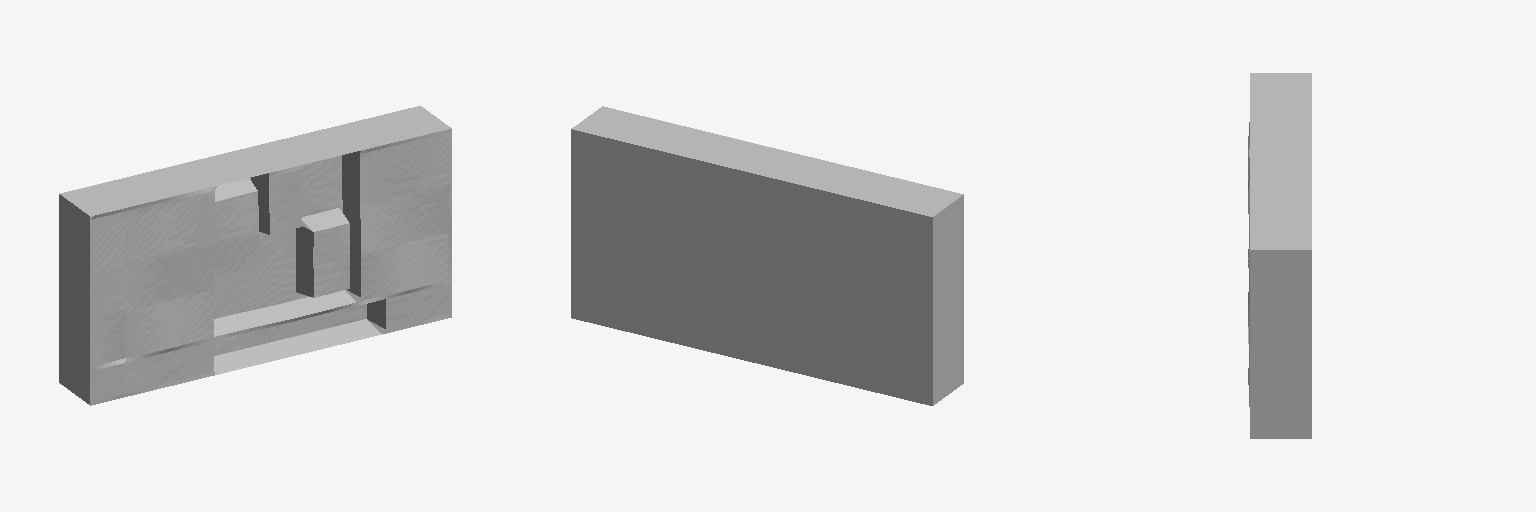
The model's file is rectangular_prism_bumps_2_9.obj.
3 views of the same model, side by side, from view 1: azimuth 30°, elevation 25°; view 2: azimuth 150°, elevation 25°; view 3: azimuth 270°, elevation 25° (orthographic).
Size of the model in its own units: 10 by 5 by 1.54.